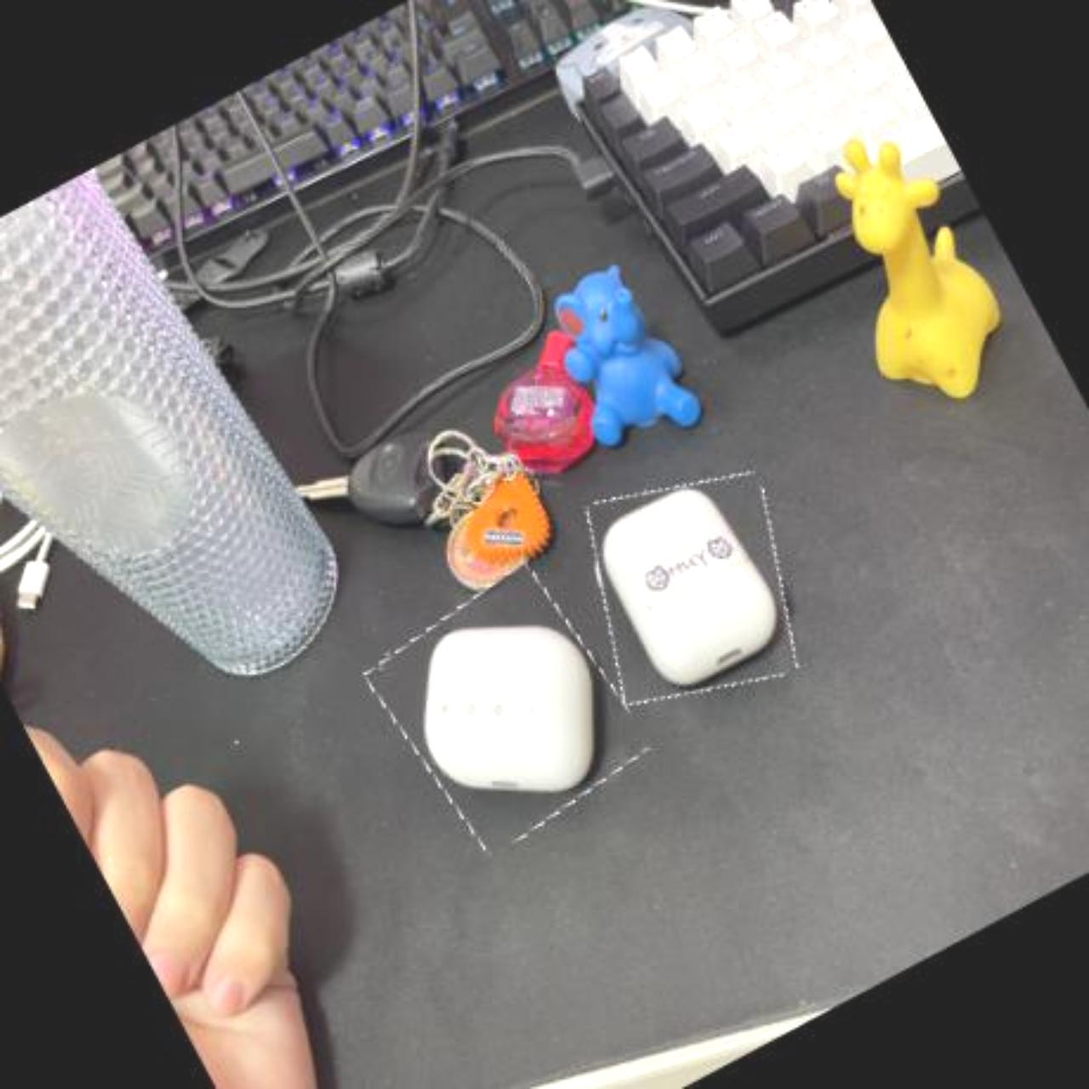AirPods: (362, 559, 656, 864), (553, 442, 834, 733)
